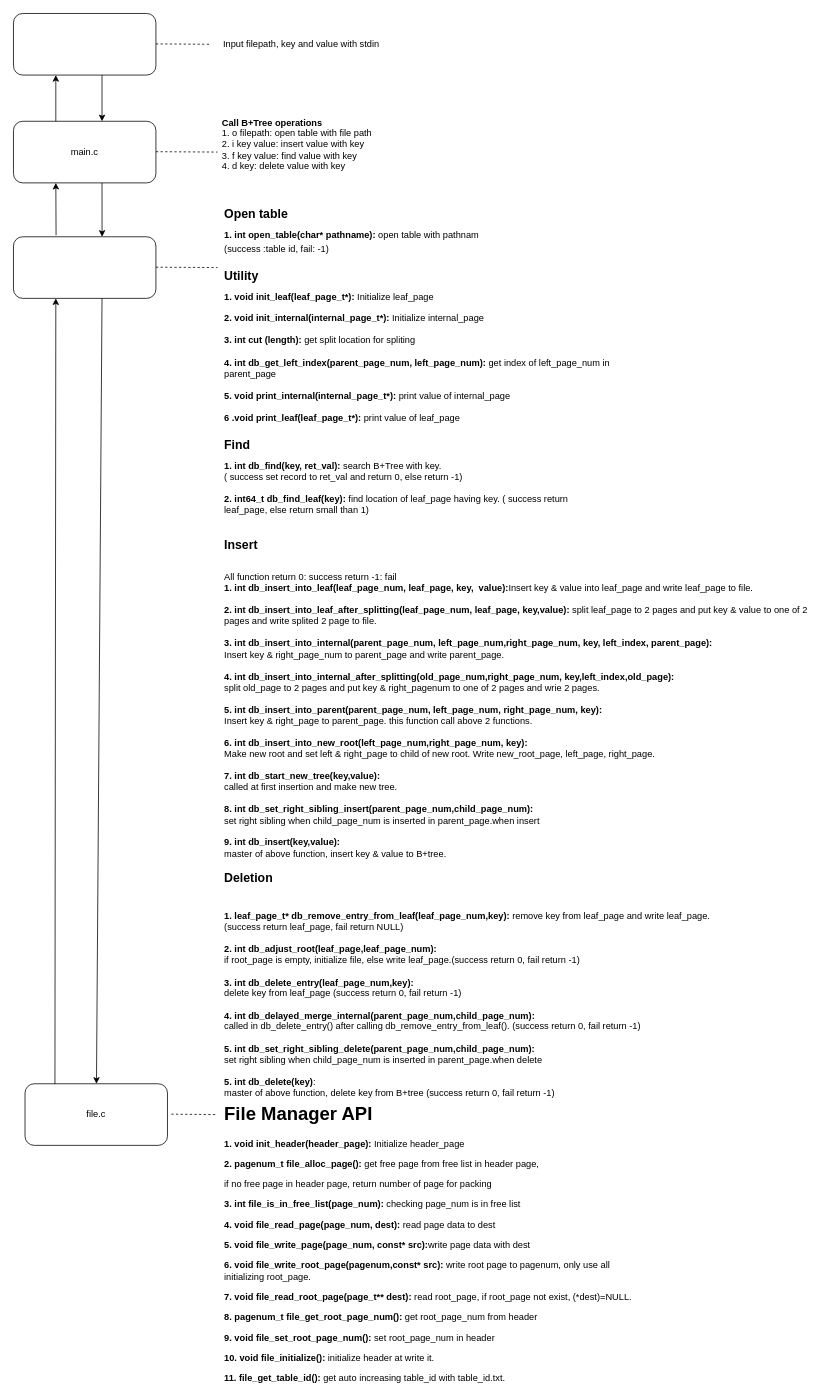
Image size: 832x1398. Some labels were removed from this diagram. Here are the shapes that lost their labels. From the top down, the centre of each, then its label:
point (84, 44): Terminal
point (84, 267): bpt.c
